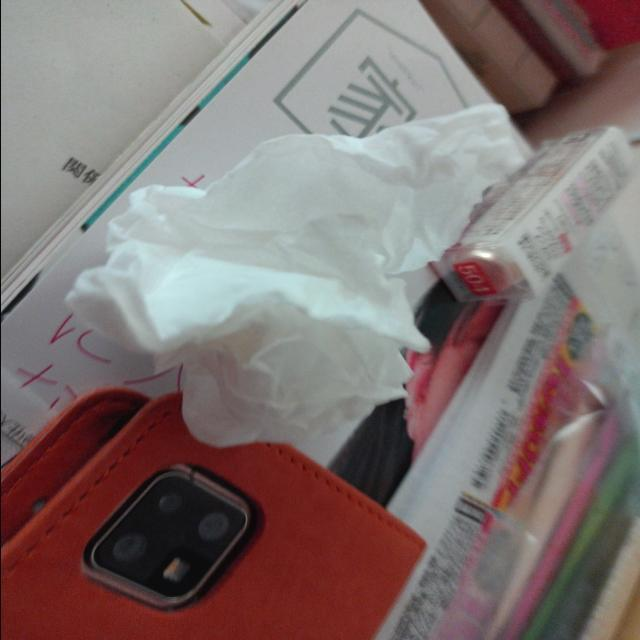Paper: (68, 111, 514, 433)
